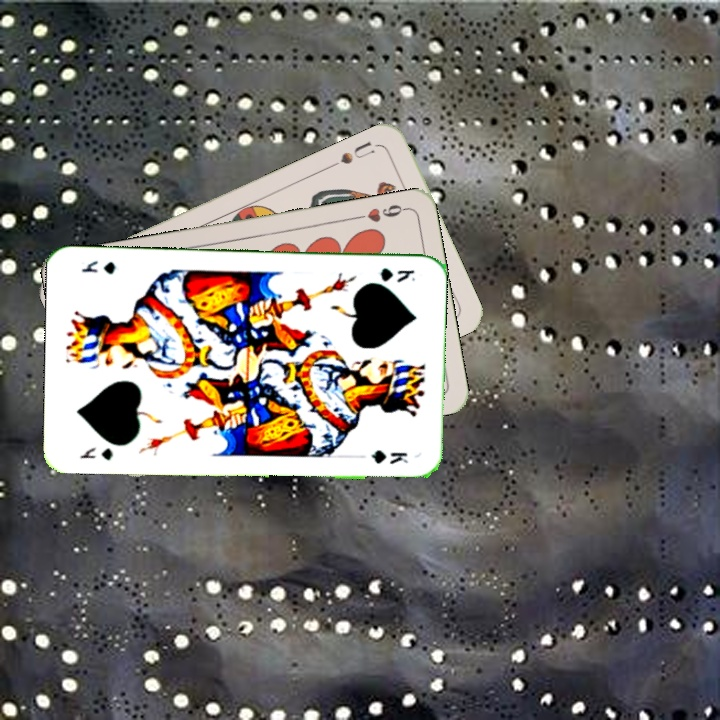GK: (376, 264, 417, 285), (76, 444, 116, 463)
H9: (351, 200, 410, 225)
SU: (325, 137, 377, 171)
